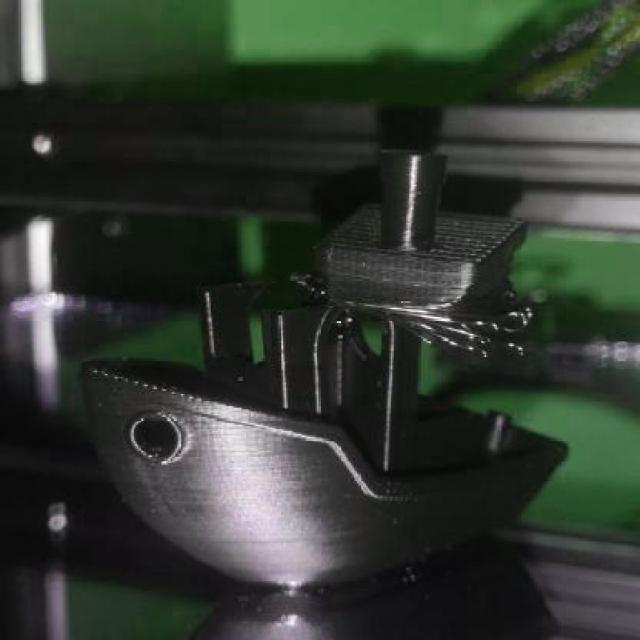spaghetti: (360, 290, 534, 359), (289, 271, 332, 307)
